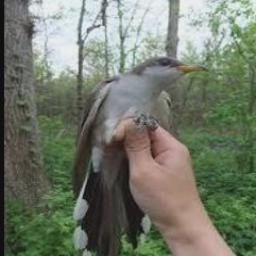Cuckoo: (72, 56, 207, 256)
